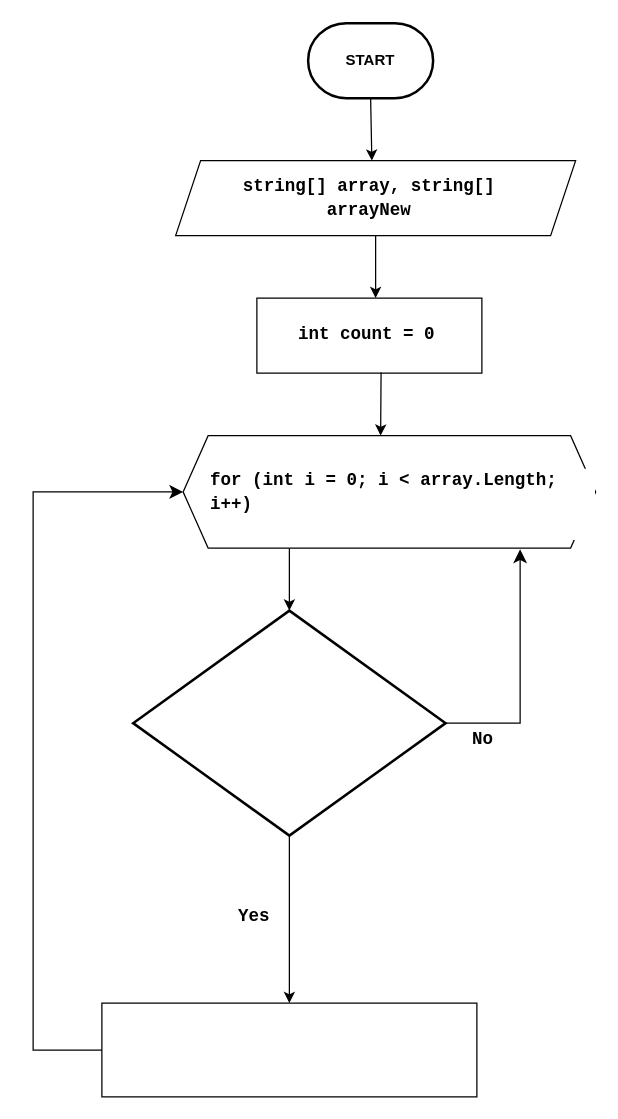
This 618x1119 diagram has some shape labels left out. The shapes that lost their labels are listed below. From the top down, each one's box as (x1, y1, x2, y2) in pixels, then its label:
(131, 609, 446, 836): if ( array [ i ]. Length <= 3 )
(101, 1002, 477, 1097): arrayNew[ count ] = array [ i ]; count ++;
